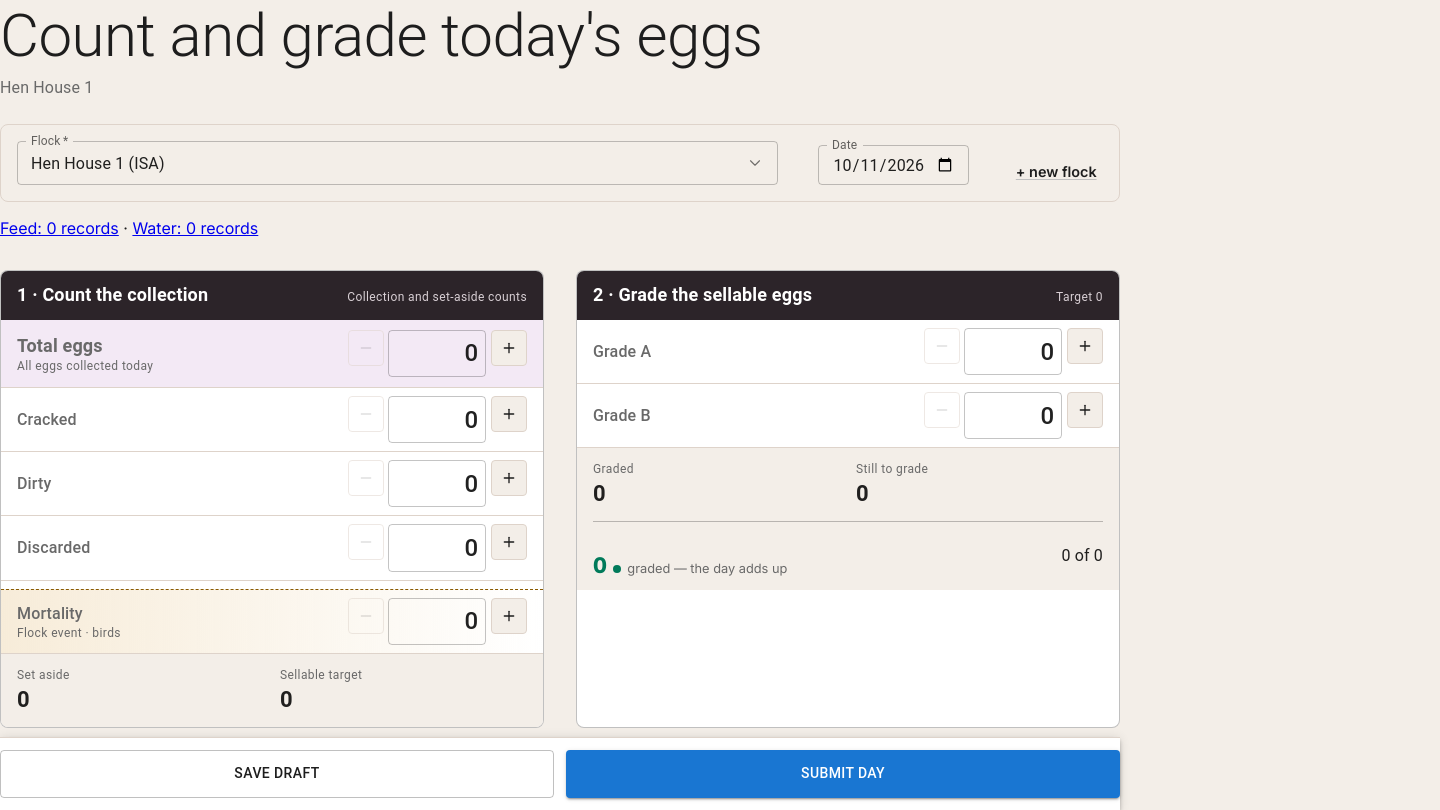
it: DailyEntryPage new-flock dialog › creates exactly one flock when double-submitted mid-flight (#236 — this form had no guard)
Expected: the number field labelled "Grade A" is shown, [964,328,1062,375]
Expected: the button "Save draft" is enabled, [0,750,554,798]
Click the button "+ new flock" at {"x": 1056, "y": 172}, box [1009,158,1103,185]
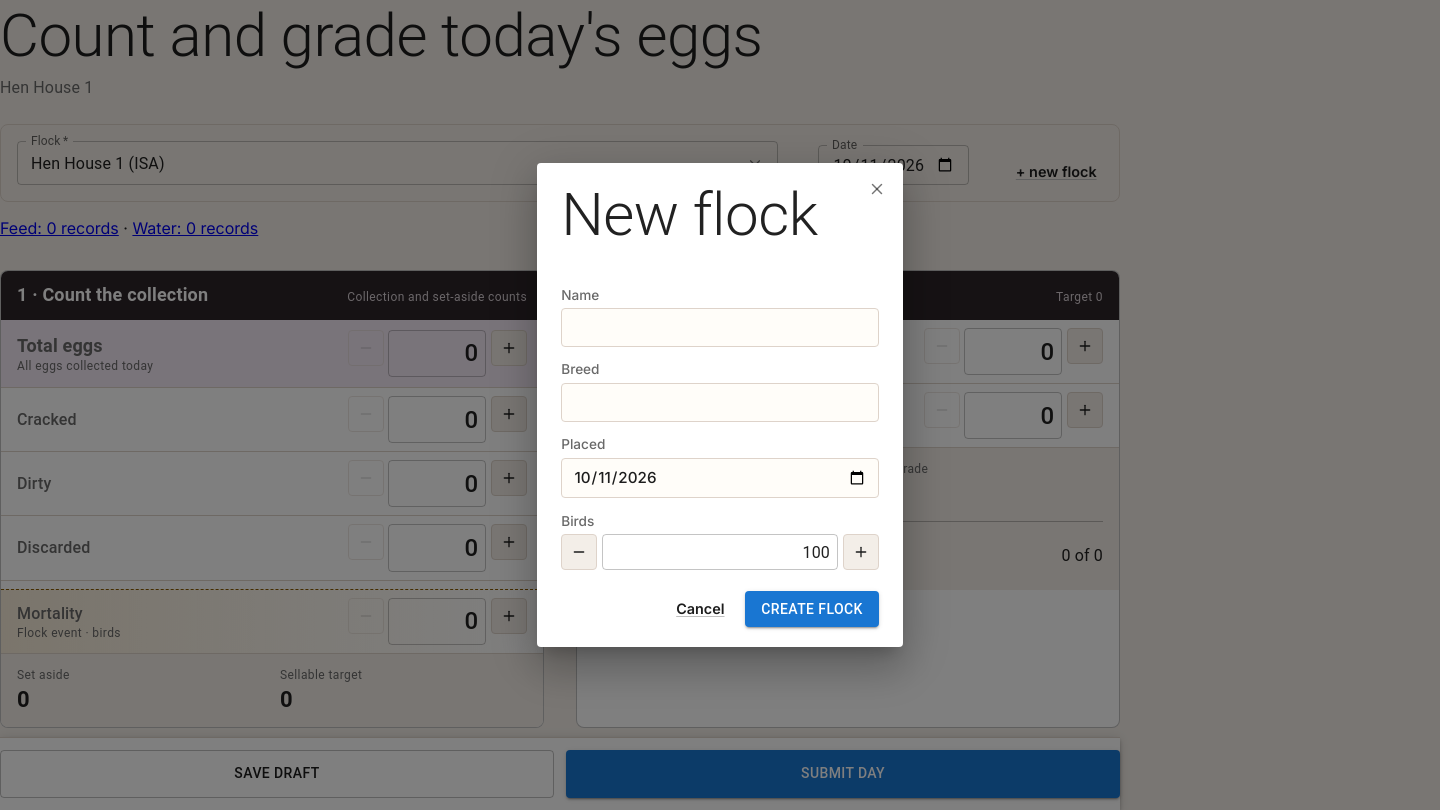
Type "Rhode Reds" into the field labelled "Name" at {"x": 720, "y": 328}, box [561,308,879,347]
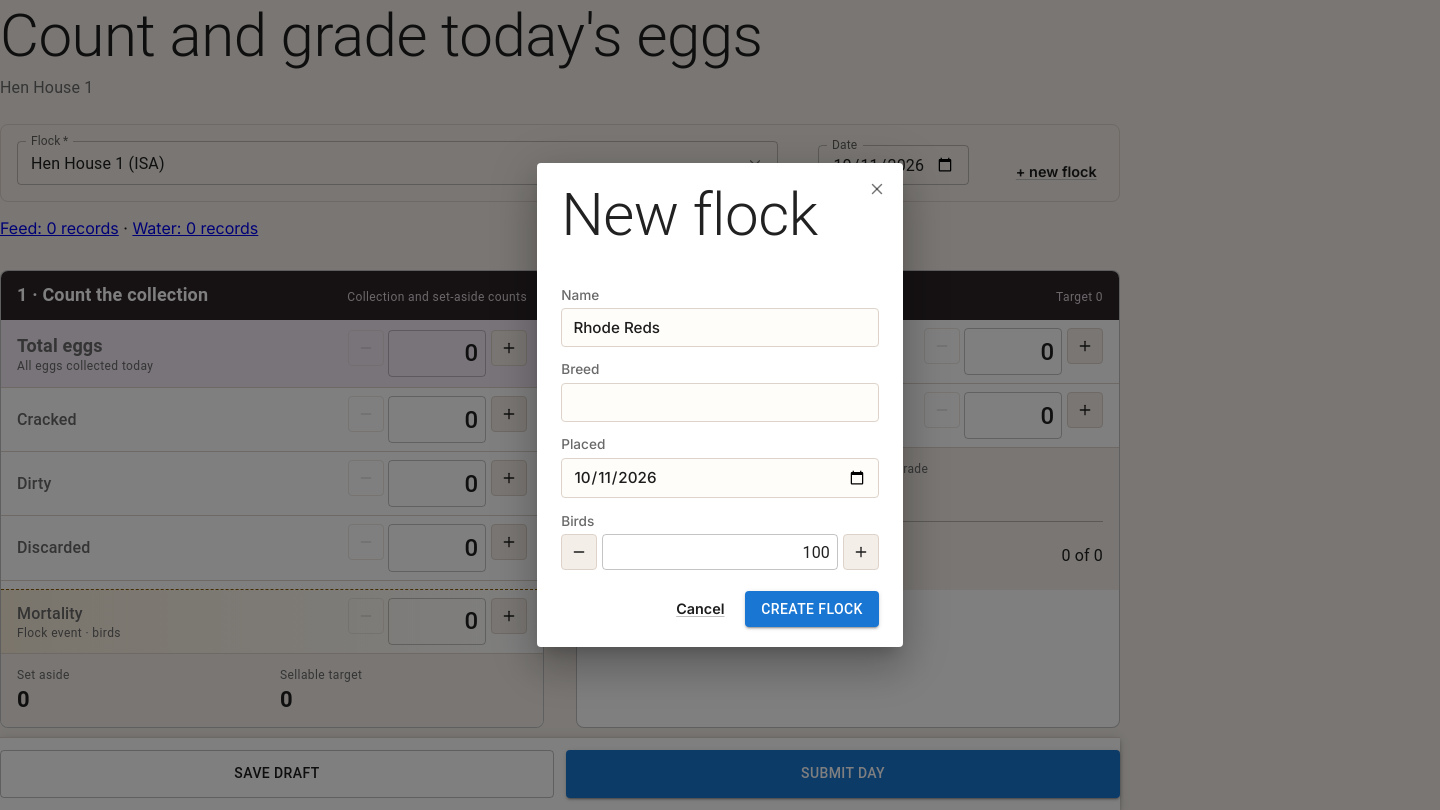
Type "RIR" into the field labelled "Breed" at {"x": 720, "y": 402}, box [561,383,879,422]
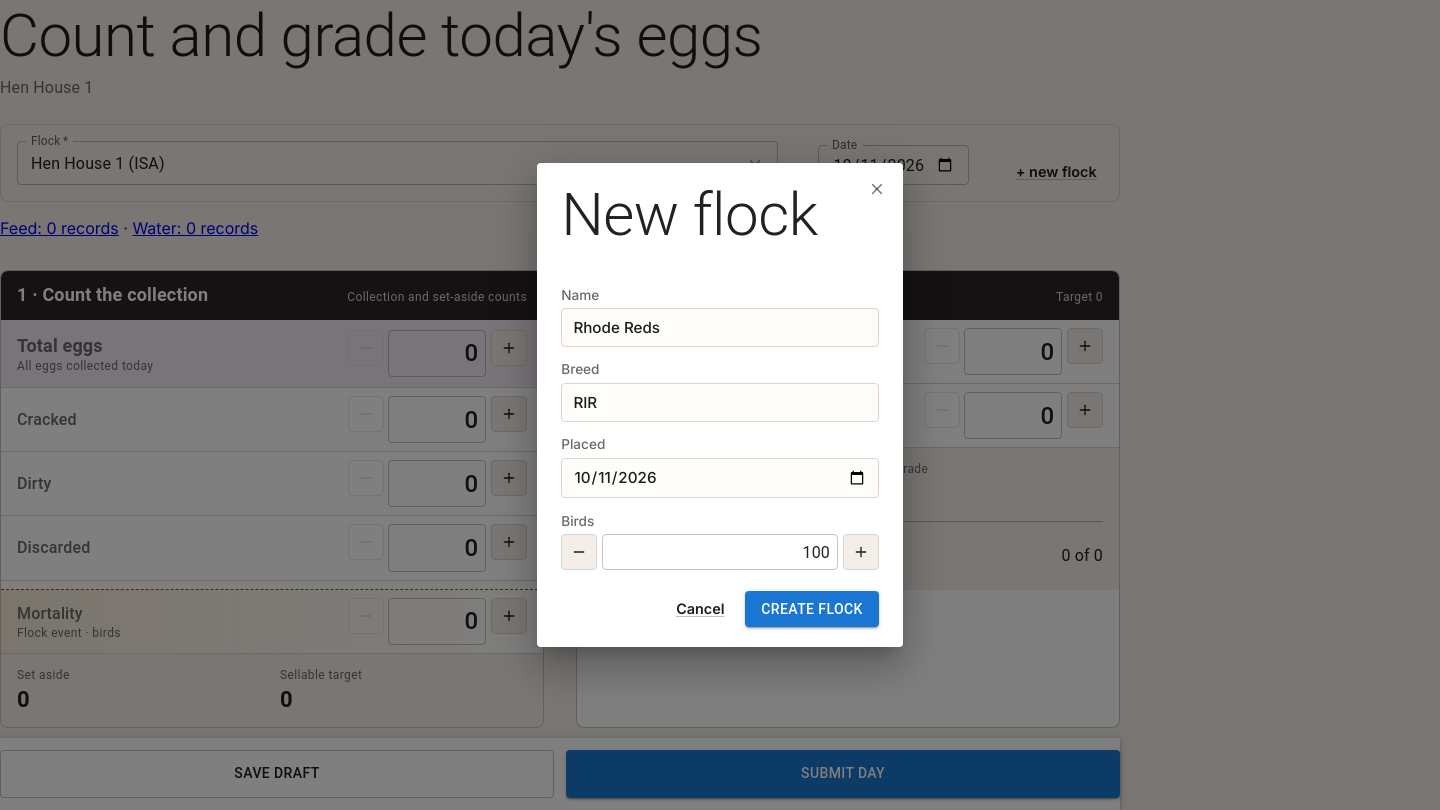
Submit the form "Create flock", box [561,287,879,627]
Submit the form "Create flock", box [561,287,879,627]
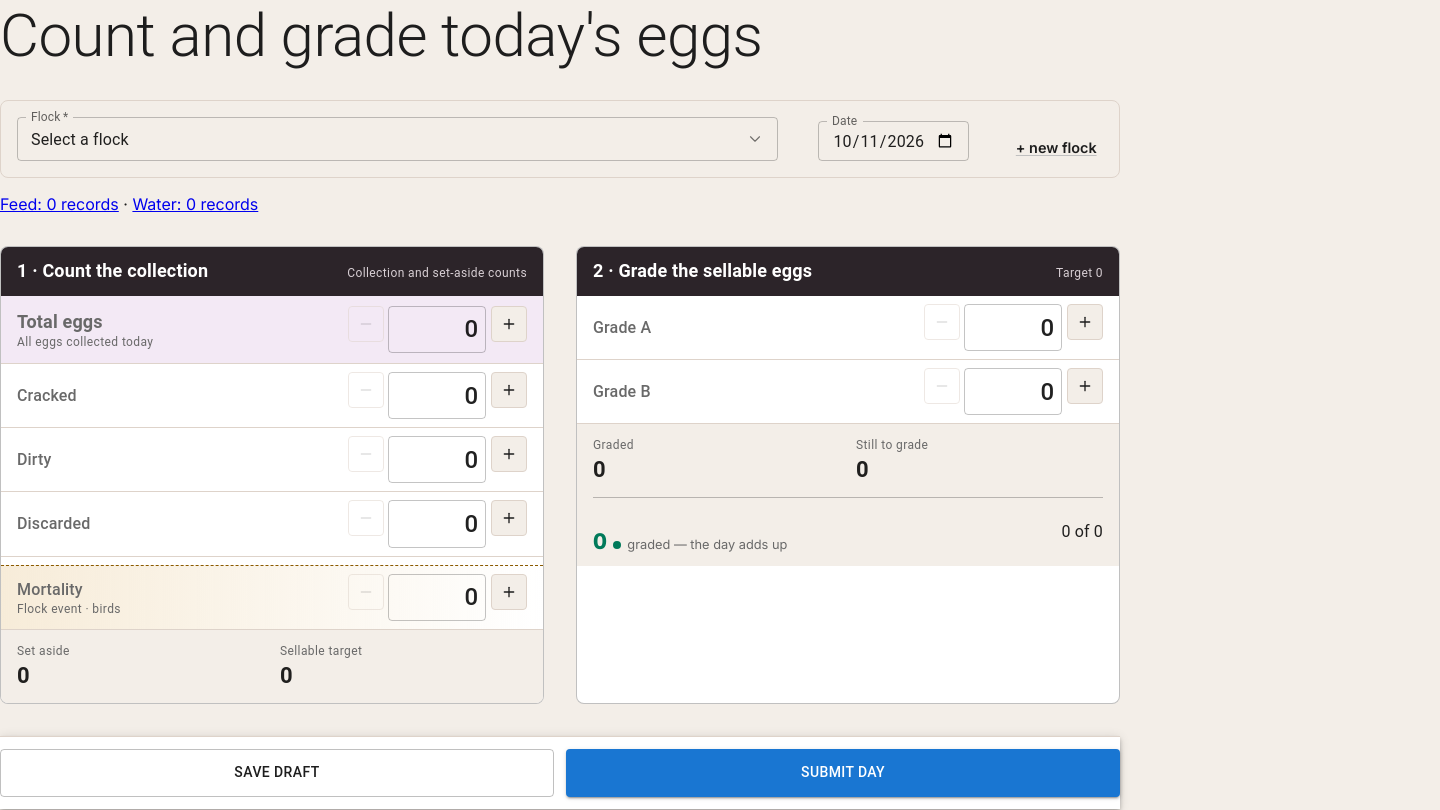
Expected: the dialog is gone
